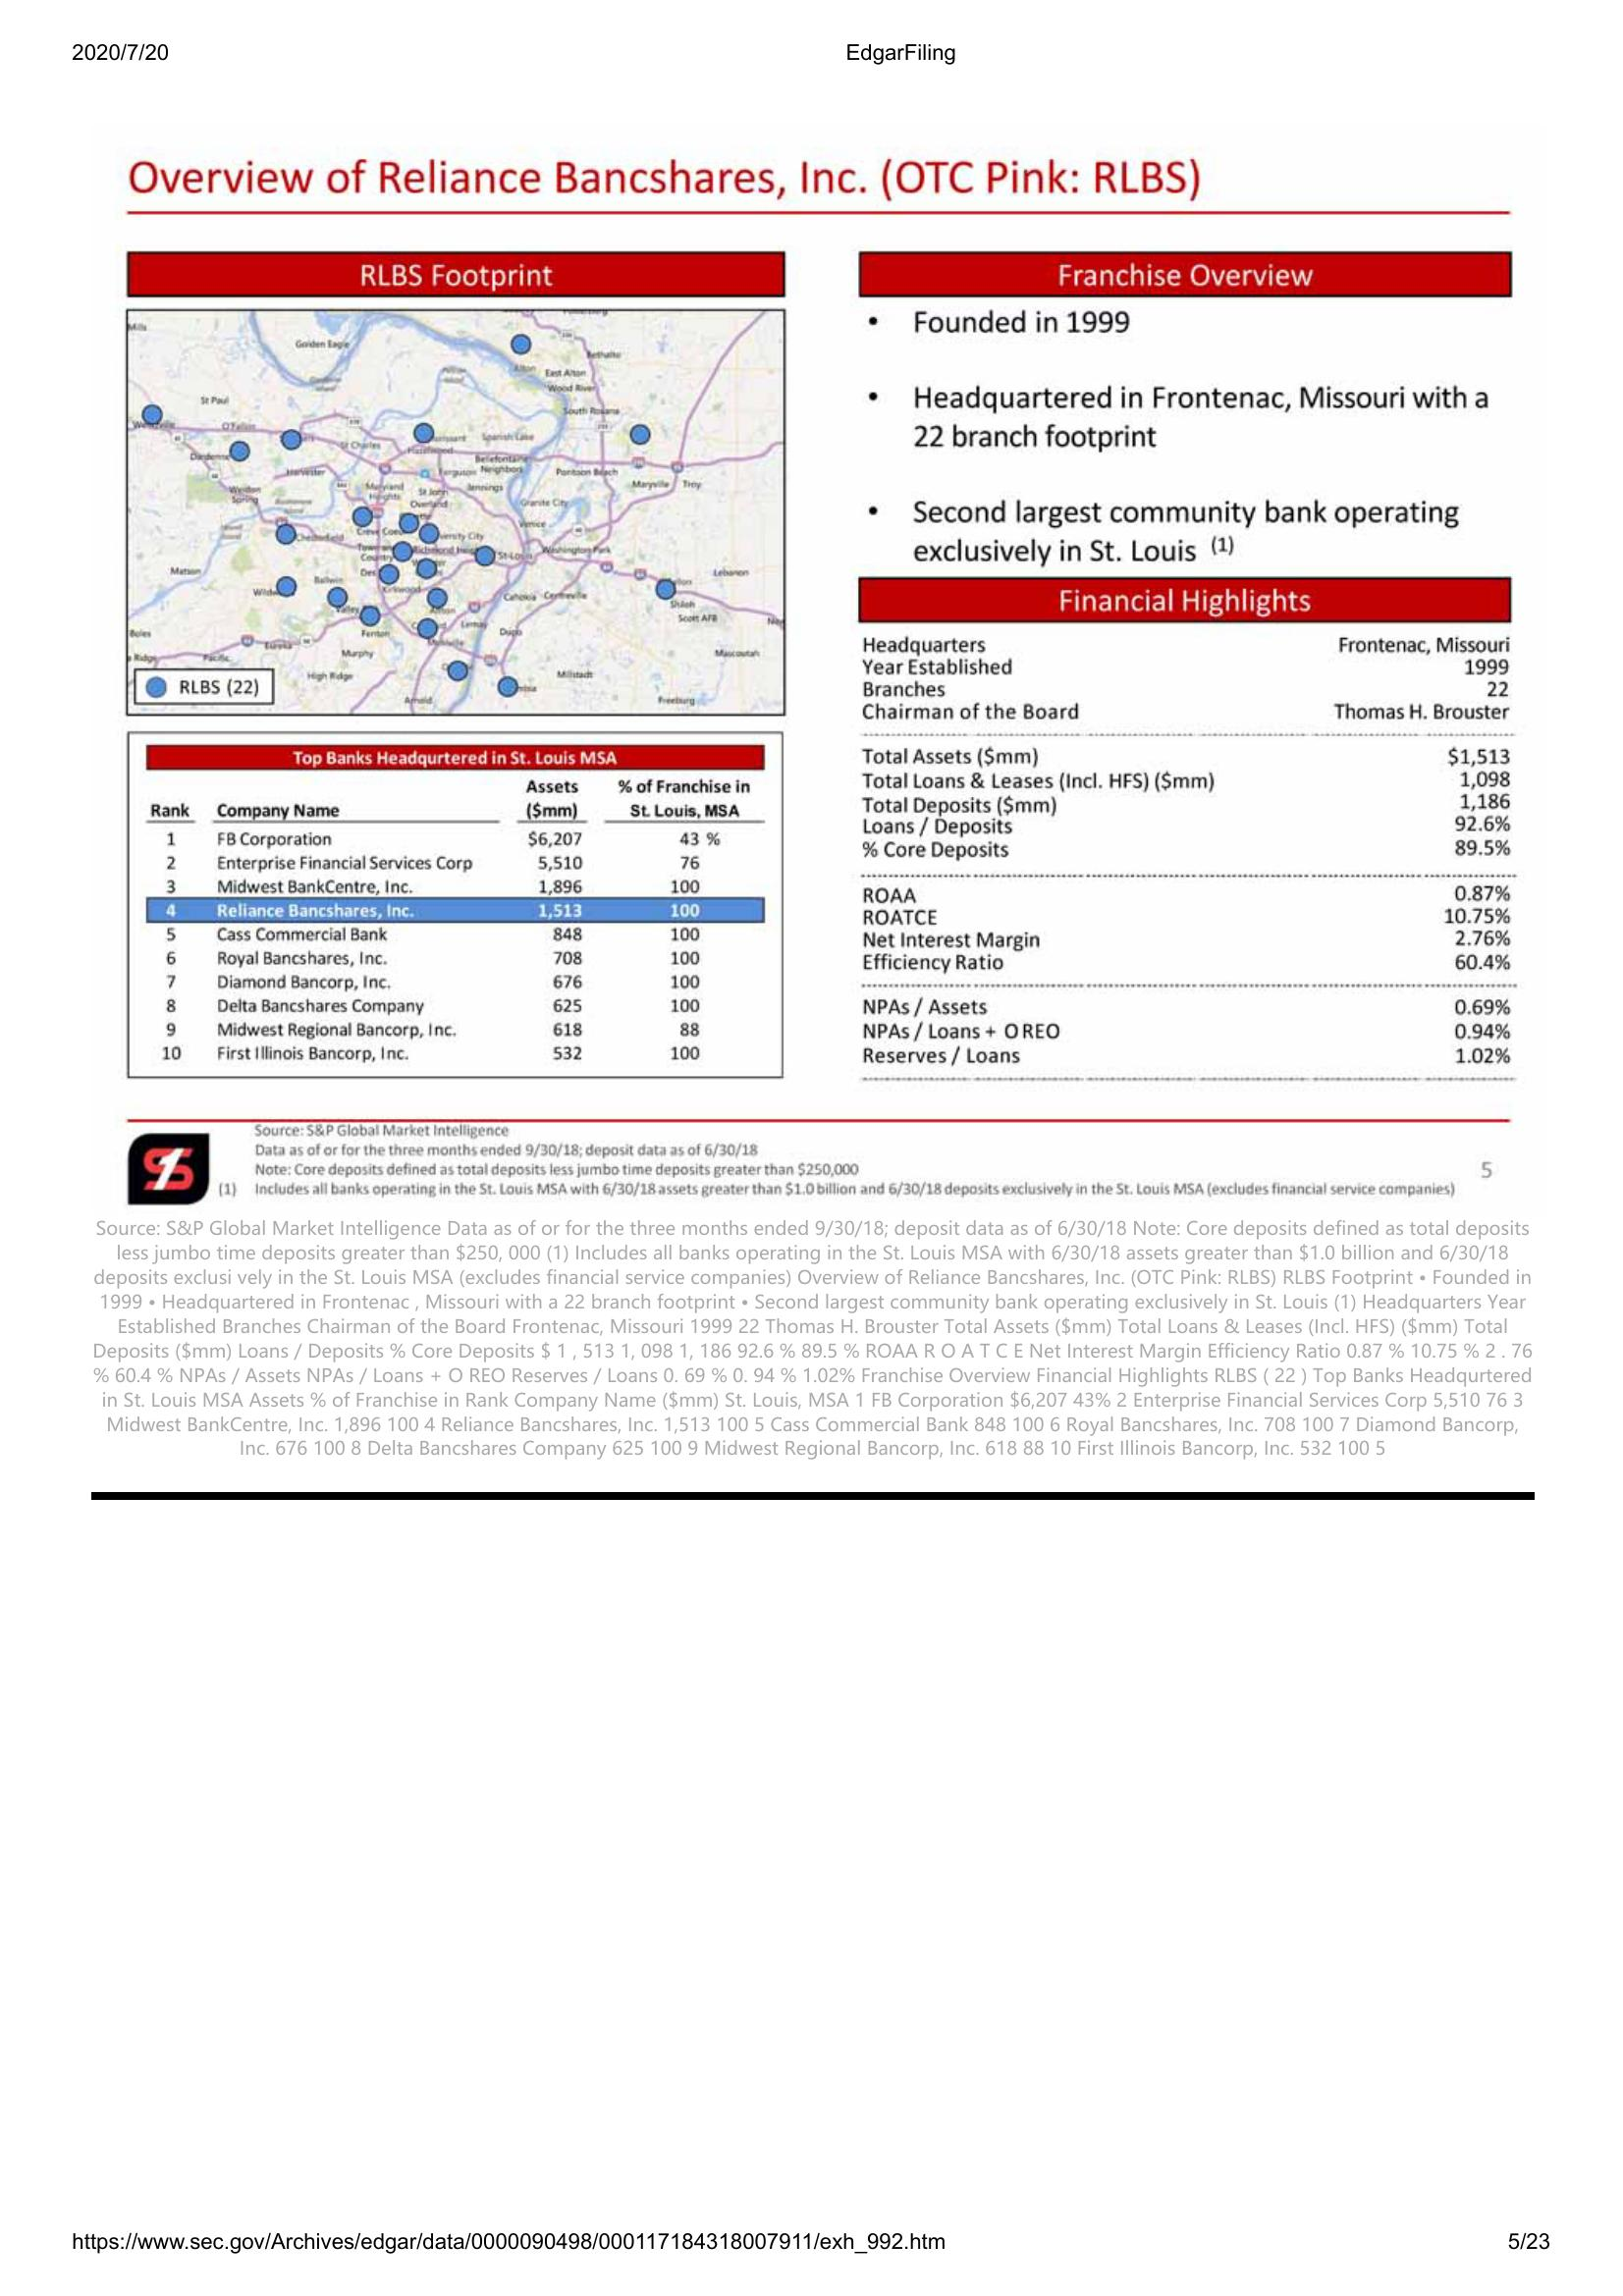table: (855, 572, 1519, 1080), (123, 728, 790, 1085)
